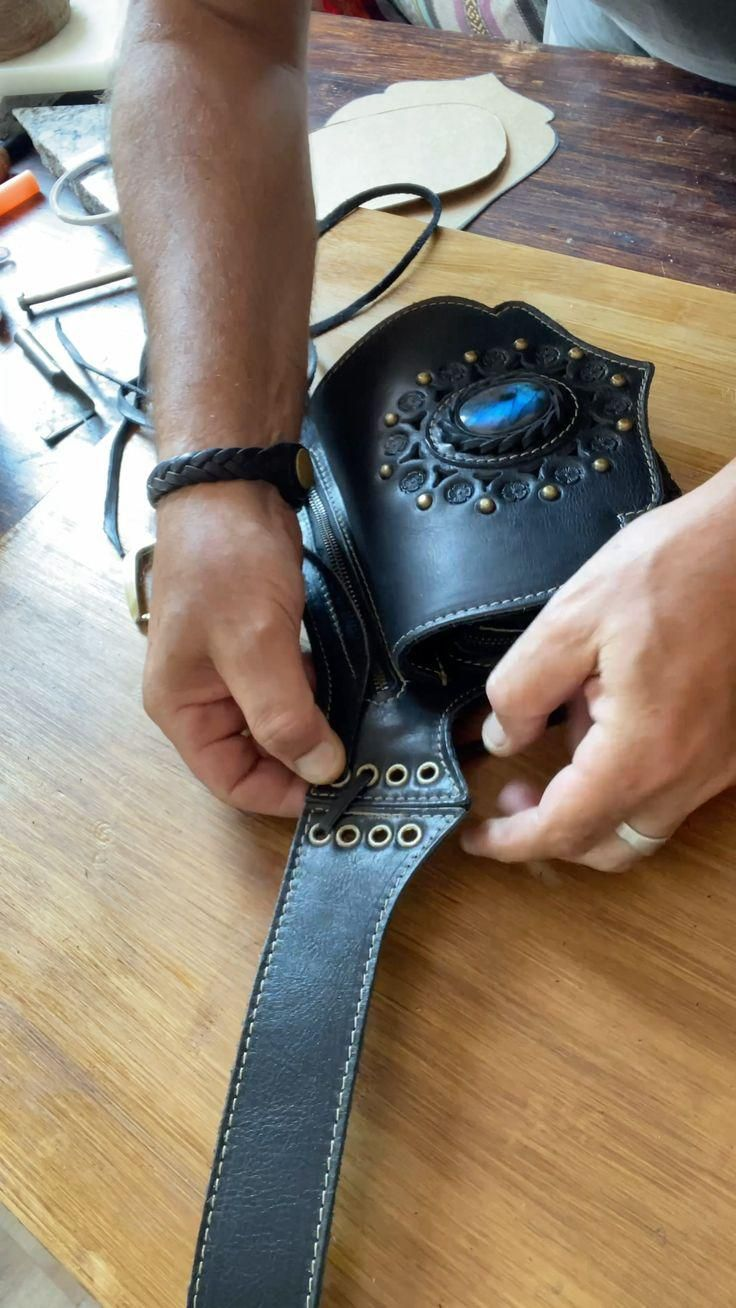cuero: (145, 299, 692, 1308)
